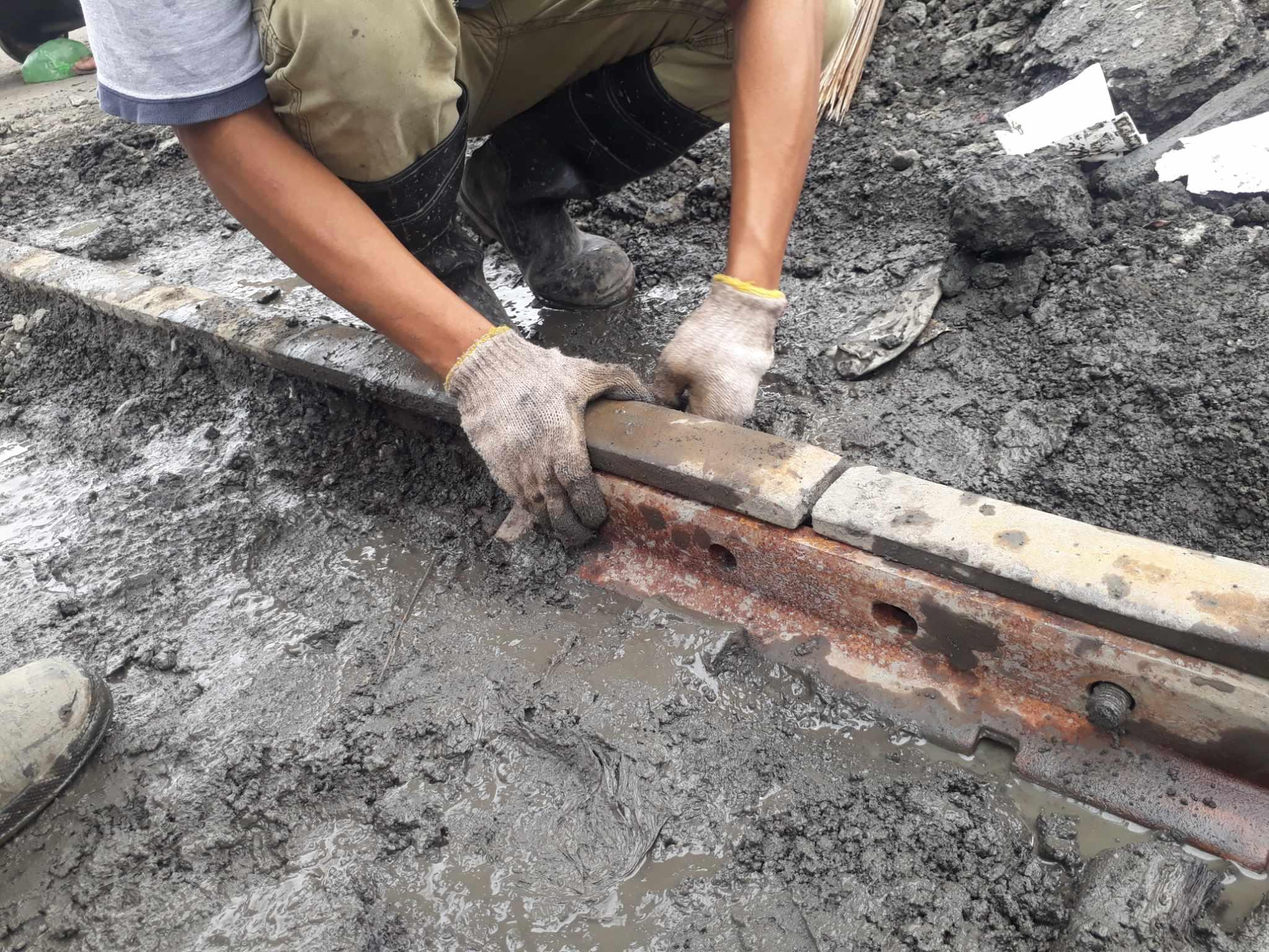railway-gap: (743, 405, 905, 576)
